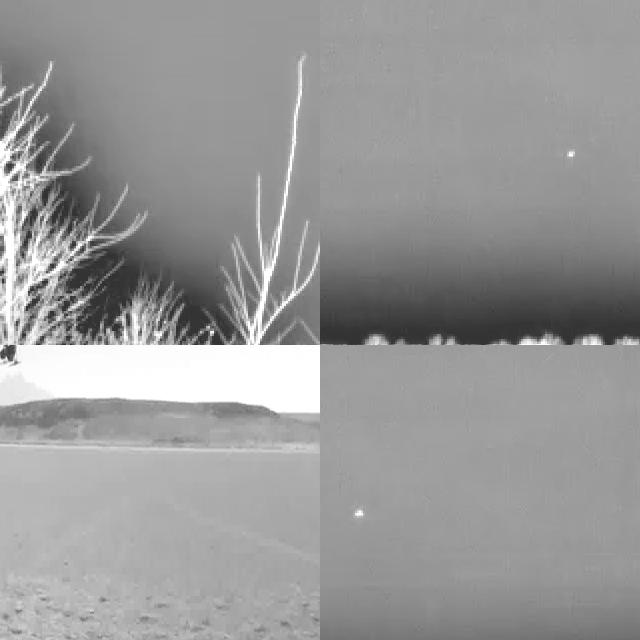1: (346, 498, 380, 536), (560, 142, 590, 172)
drone: (0, 345, 44, 372)
